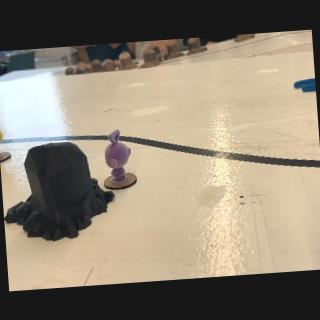teletubby: (104, 129, 130, 183)
